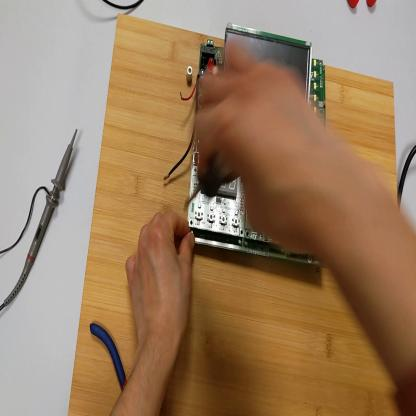hand: (196, 46, 330, 254), (126, 212, 194, 346)
low voltage board: (165, 26, 328, 271)
oscilloscope probe tip: (4, 126, 80, 311)
pliers: (91, 324, 128, 392), (348, 3, 378, 10)
screwdriver-: (186, 155, 240, 209)
working area: (70, 13, 404, 412)
